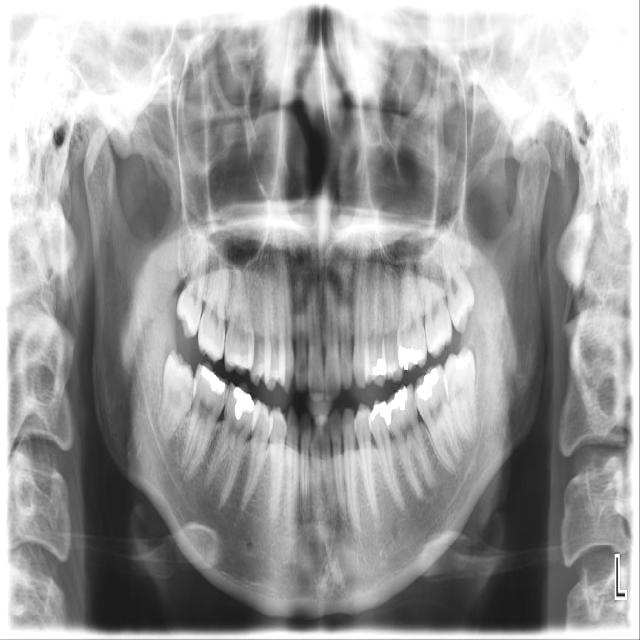Filling: (412, 367, 442, 401), (199, 364, 227, 395), (397, 345, 426, 373), (232, 389, 256, 421), (386, 386, 411, 413), (371, 400, 393, 426), (371, 357, 387, 377)
impacted tooth: (155, 351, 194, 446), (445, 347, 480, 443)
